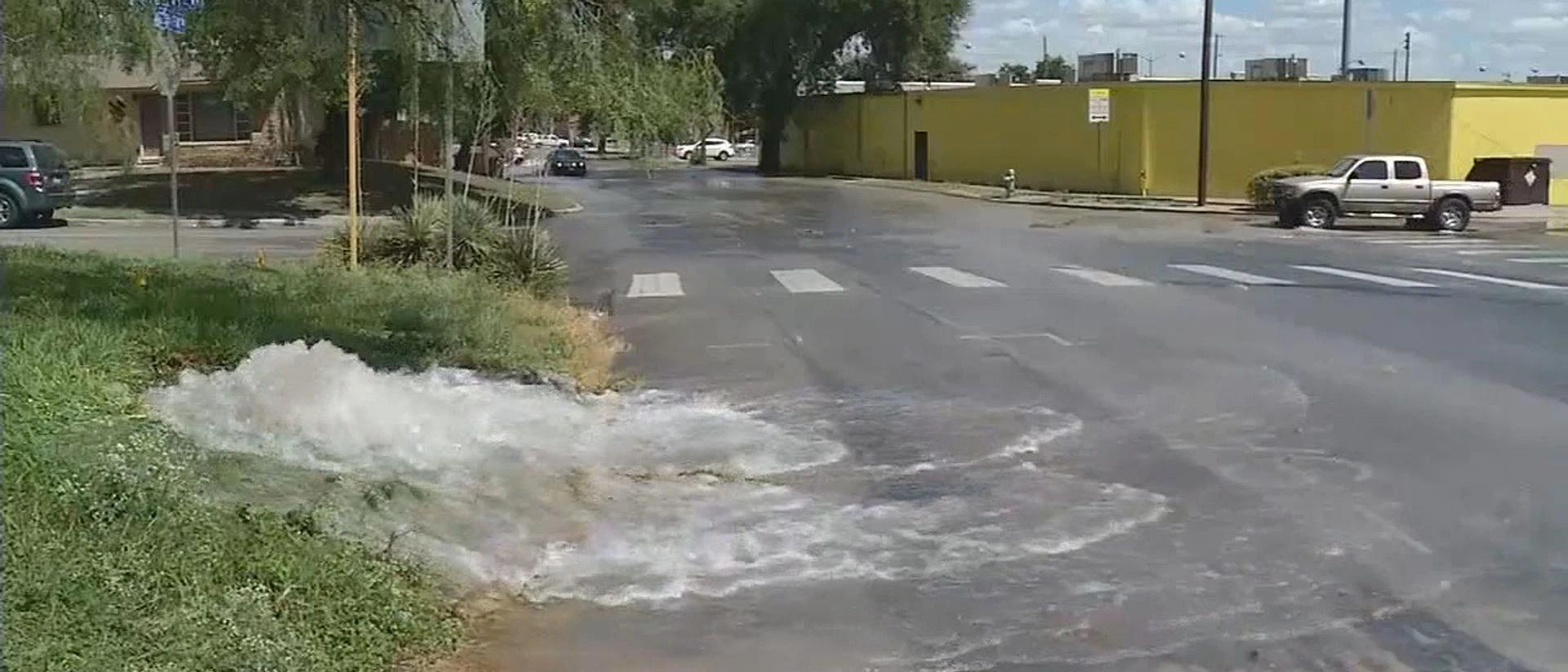water_leak: (162, 339, 1479, 538)
